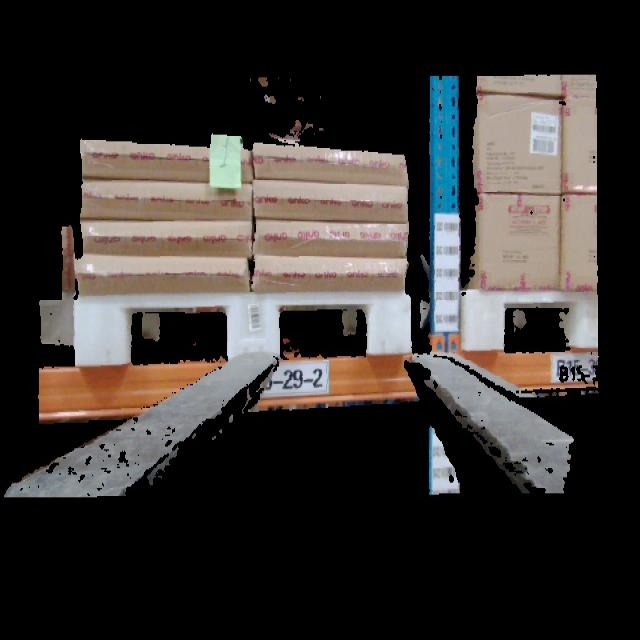block: (74, 296, 125, 368), (222, 298, 282, 356), (362, 293, 414, 357), (463, 291, 506, 351)
front: (73, 293, 413, 371)
